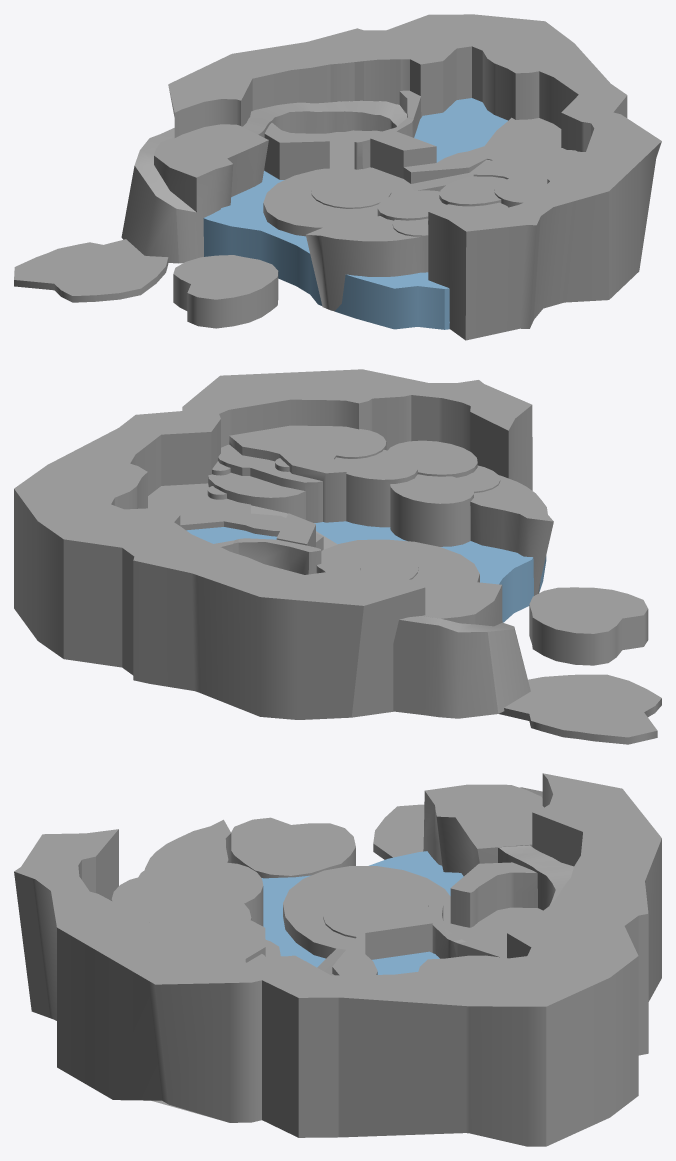
File: mapa per uv.fbx
3 renders of one model, top to bottom at view 1: azimuth 30°, elevation 25°; view 2: azimuth 150°, elevation 25°; view 3: azimuth 270°, elevation 25°, orthographic. The views are drawn at different scales.
Parts seen in each view (by area): view 1: parets_exteriors1, polySurface1, repla_provisions, Aigua_illa, repla_interior1, platja, plaça_central1, repla_cap_a_plaça, suelo, llac, pendent_aigües_termals; view 2: parets_exteriors1, polySurface1, repla_provisions, platja, repla_cap_a_plaça, repla_interior1, plaça_central1, Aigua_illa, llac; view 3: parets_exteriors1, polySurface1, repla_interior1, plaça_central1, repla_provisions, repla_cap_a_plaça, suelo, Aigua_illa, platja, llac.
Boxes of the visible parts, box(x1,y1,x2,y2) form: parets_exteriors1: box(168, 14, 661, 340); polySurface1: box(306, 147, 585, 311); repla_provisions: box(121, 124, 268, 263); Aigua_illa: box(203, 171, 449, 329); repla_interior1: box(264, 90, 561, 183); platja: box(14, 239, 168, 302); plaça_central1: box(263, 166, 413, 236); repla_cap_a_plaça: box(173, 255, 278, 328); suelo: box(242, 100, 406, 171); llac: box(414, 98, 507, 162); pendent_aigües_termals: box(411, 159, 491, 191); parets_exteriors1: box(14, 369, 532, 719); polySurface1: box(207, 425, 553, 595); repla_provisions: box(375, 576, 530, 718); platja: box(499, 674, 661, 744); repla_cap_a_plaça: box(529, 587, 648, 665); repla_interior1: box(148, 483, 346, 574); plaça_central1: box(321, 539, 479, 582); Aigua_illa: box(314, 521, 546, 622); llac: box(186, 527, 276, 543); parets_exteriors1: box(14, 773, 661, 1146); polySurface1: box(111, 819, 307, 962); repla_interior1: box(332, 862, 537, 975); plaça_central1: box(283, 866, 451, 958); repla_provisions: box(423, 784, 543, 876); repla_cap_a_plaça: box(231, 817, 355, 878); suelo: box(448, 845, 573, 950); Aigua_illa: box(262, 851, 463, 967); platja: box(373, 804, 424, 859); llac: box(372, 951, 439, 974).
Size of the model in its own units: 28.98 by 5.44 by 22.66.
